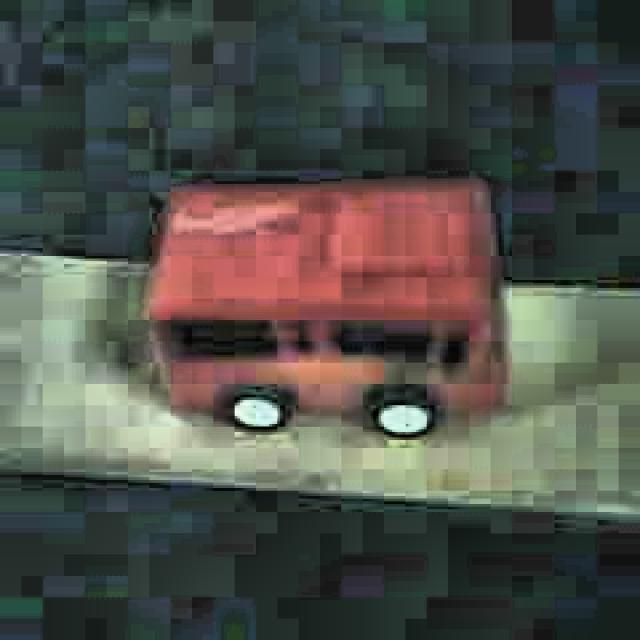bus: (144, 176, 510, 442)
